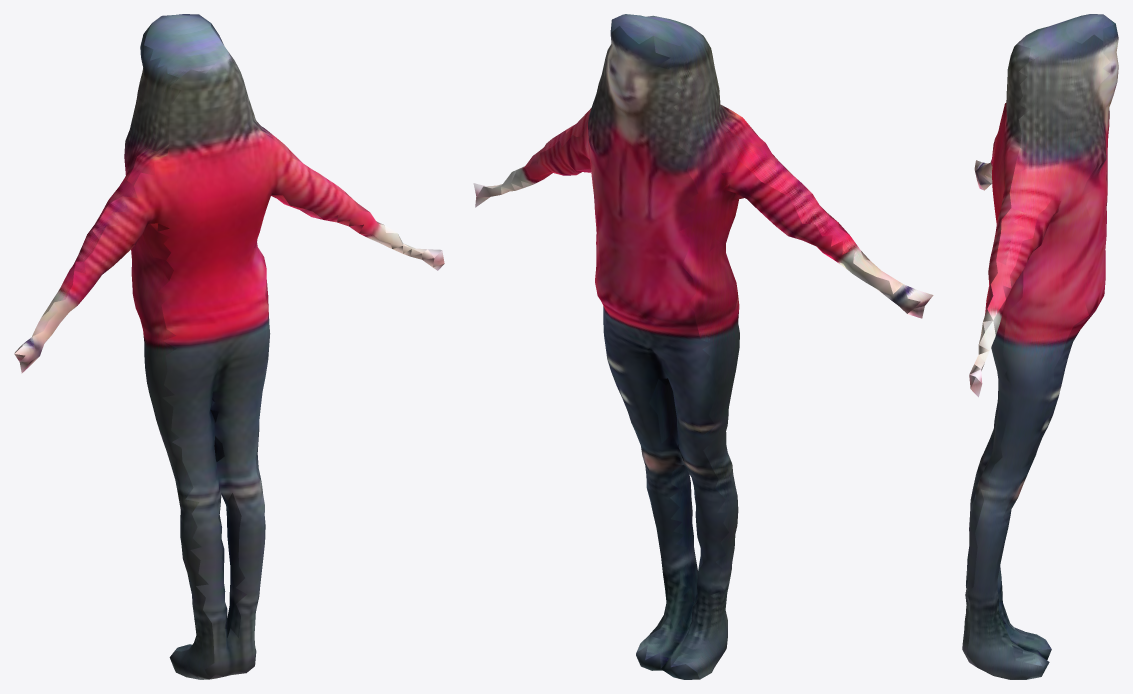
The picture shows the model from 3 angles, left to right: view 1: azimuth 30°, elevation 25°; view 2: azimuth 150°, elevation 25°; view 3: azimuth 270°, elevation 25°; orthographic projection. The views are drawn at different scales.
Parts seen in each view (by area): view 1: world; view 2: world; view 3: world.
Part boxes in pixels (box(x1,y1,x2,y2)): world: box(14, 14, 444, 679); world: box(473, 14, 933, 679); world: box(962, 14, 1118, 679).
Bounding box in the file's own units: 0.7215 × 1.01 × 0.2204.
1 material, 1 textured.
